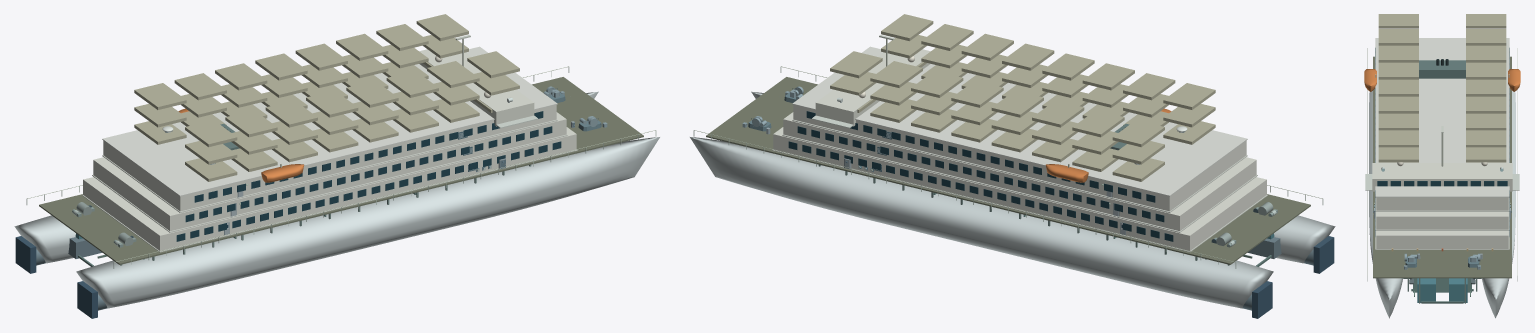
File: francisco.lod1.glb
3 views of the same model, side by side, from view 1: azimuth 30°, elevation 25°; view 2: azimuth 150°, elevation 25°; view 3: azimuth 270°, elevation 25° (orthographic). The views are drawn at different scales.
Visible parts, largest first — view 1: francisco.structure.twin-hulls.starboard-pontoon.1, francisco.accommodation.superstructure.superstructure-weathe, francisco.structure.decks.main-strength-deck.1, francisco.accommodation.superstructure.deck-1-enclosure.1, francisco.accommodation.superstructure.deck-2-enclosure.1, francisco.accommodation.deck-6-interiors.deck-6-starboard-ca (×8), francisco.accommodation.deck-5-interiors.deck-5-starboard-ca (×8), francisco.accommodation.superstructure.deck-3-enclosure.1, francisco.accommodation.deck-4-interiors.deck-4-starboard-ca (×7), francisco.navigation.bridge.wheelhouse.1, francisco.structure.twin-hulls.port-pontoon.1, francisco.accommodation.superstructure.deck-2-floor.1 (+23 smaller); view 2: francisco.structure.twin-hulls.port-pontoon.1, francisco.accommodation.superstructure.superstructure-weathe, francisco.structure.decks.main-strength-deck.1, francisco.accommodation.superstructure.deck-1-enclosure.1, francisco.accommodation.superstructure.deck-2-enclosure.1, francisco.accommodation.deck-6-interiors.deck-6-starboard-ca (×8), francisco.accommodation.deck-5-interiors.deck-5-starboard-ca (×8), francisco.accommodation.superstructure.deck-3-enclosure.1, francisco.navigation.bridge.wheelhouse.1, francisco.structure.twin-hulls.starboard-pontoon.1, francisco.accommodation.superstructure.deck-2-floor.1, francisco.accommodation.superstructure.deck-3-floor.1 (+29 smaller); view 3: francisco.accommodation.superstructure.superstructure-weathe, francisco.accommodation.deck-6-interiors.deck-6-starboard-ca (×8), francisco.structure.decks.main-strength-deck.1, francisco.navigation.bridge.wheelhouse.1, francisco.accommodation.superstructure.deck-2-enclosure.1, francisco.accommodation.superstructure.deck-1-enclosure.1, francisco.accommodation.superstructure.deck-3-enclosure.1, francisco.structure.twin-hulls.port-pontoon.1, francisco.structure.twin-hulls.starboard-pontoon.1, francisco.propulsion.exhaust.exhaust-casing.1, francisco.accommodation.deck-6-interiors.deck-6-port-cabin-6, francisco.accommodation.deck-5-interiors.deck-5-port-cabin-8 (+19 smaller).
Boxes of the visible parts, bbox=[...] form: francisco.structure.twin-hulls.starboard-pontoon.1: bbox=[76, 137, 659, 308]; francisco.accommodation.superstructure.superstructure-weathe: bbox=[102, 46, 557, 196]; francisco.structure.decks.main-strength-deck.1: bbox=[39, 77, 643, 264]; francisco.accommodation.superstructure.deck-1-enclosure.1: bbox=[83, 127, 576, 250]; francisco.accommodation.superstructure.deck-2-enclosure.1: bbox=[93, 112, 566, 231]; francisco.accommodation.deck-6-interiors.deck-6-starboard-ca (×8): bbox=[185, 51, 519, 147]; francisco.accommodation.deck-5-interiors.deck-5-starboard-ca (×8): bbox=[185, 72, 519, 164]; francisco.accommodation.superstructure.deck-3-enclosure.1: bbox=[103, 105, 556, 211]; francisco.accommodation.deck-4-interiors.deck-4-starboard-ca (×7): bbox=[185, 99, 479, 181]; francisco.navigation.bridge.wheelhouse.1: bbox=[419, 49, 534, 126]; francisco.structure.twin-hulls.port-pontoon.1: bbox=[14, 91, 598, 263]; francisco.accommodation.superstructure.deck-2-floor.1: bbox=[92, 134, 567, 232]; francisco.structure.twin-hulls.port-pontoon.1: bbox=[690, 137, 1273, 308]; francisco.accommodation.superstructure.superstructure-weathe: bbox=[792, 46, 1247, 196]; francisco.structure.decks.main-strength-deck.1: bbox=[706, 77, 1310, 264]; francisco.accommodation.superstructure.deck-1-enclosure.1: bbox=[773, 127, 1266, 250]; francisco.accommodation.superstructure.deck-2-enclosure.1: bbox=[783, 112, 1256, 231]; francisco.accommodation.deck-6-interiors.deck-6-starboard-ca (×8): bbox=[881, 14, 1215, 109]; francisco.accommodation.deck-5-interiors.deck-5-starboard-ca (×8): bbox=[881, 35, 1215, 127]; francisco.accommodation.superstructure.deck-3-enclosure.1: bbox=[793, 105, 1246, 211]; francisco.navigation.bridge.wheelhouse.1: bbox=[815, 49, 930, 126]; francisco.structure.twin-hulls.starboard-pontoon.1: bbox=[751, 91, 1335, 263]; francisco.accommodation.superstructure.deck-2-floor.1: bbox=[782, 134, 1257, 232]; francisco.accommodation.superstructure.deck-3-floor.1: bbox=[792, 119, 1247, 212]; francisco.accommodation.superstructure.superstructure-weathe: bbox=[1375, 38, 1509, 197]; francisco.accommodation.deck-6-interiors.deck-6-starboard-ca (×8): bbox=[1378, 14, 1418, 147]; francisco.structure.decks.main-strength-deck.1: bbox=[1373, 56, 1511, 278]; francisco.navigation.bridge.wheelhouse.1: bbox=[1372, 163, 1512, 191]; francisco.accommodation.superstructure.deck-2-enclosure.1: bbox=[1376, 211, 1508, 229]; francisco.accommodation.superstructure.deck-1-enclosure.1: bbox=[1376, 231, 1508, 248]; francisco.accommodation.superstructure.deck-3-enclosure.1: bbox=[1376, 197, 1508, 210]; francisco.structure.twin-hulls.port-pontoon.1: bbox=[1482, 91, 1515, 318]; francisco.structure.twin-hulls.starboard-pontoon.1: bbox=[1369, 91, 1402, 318]; francisco.propulsion.exhaust.exhaust-casing.1: bbox=[1419, 60, 1465, 78]; francisco.accommodation.deck-6-interiors.deck-6-port-cabin-6: bbox=[1466, 98, 1506, 113]; francisco.accommodation.deck-5-interiors.deck-5-port-cabin-8: bbox=[1466, 147, 1506, 162].
Bounding box in the file's own units: 99 × 25.3 × 26.98.
